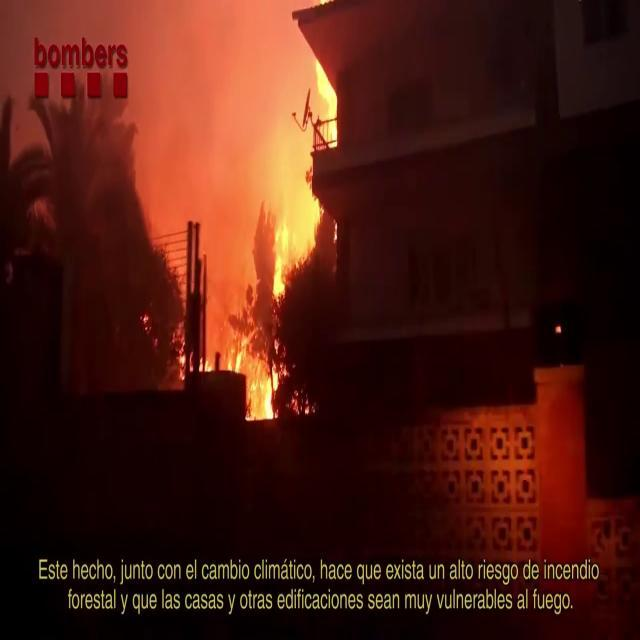Fire: (222, 48, 344, 422)
